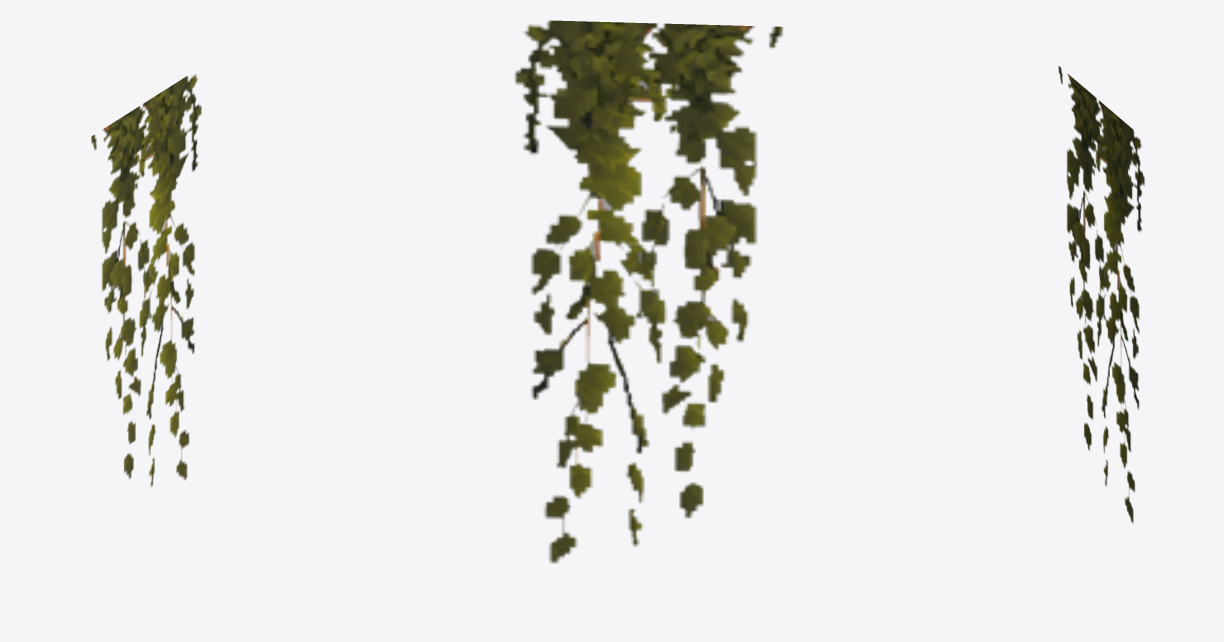
The model's file is GH_1_Ivy_6.gltf.
3 views of the same model, side by side, from view 1: azimuth 30°, elevation 25°; view 2: azimuth 150°, elevation 25°; view 3: azimuth 270°, elevation 25° (orthographic). The views are drawn at different scales.
Parts seen in each view (by area): view 1: GH_1_Ivy_6; view 2: GH_1_Ivy_6; view 3: GH_1_Ivy_6.
Part boxes in pixels (bbox=[...]): GH_1_Ivy_6: bbox=[91, 74, 201, 486]; GH_1_Ivy_6: bbox=[515, 20, 782, 563]; GH_1_Ivy_6: bbox=[1058, 66, 1144, 522].
Bounding box in the file's own units: 2.49 × 2.77 × 1.23.
1 material, 1 textured.
